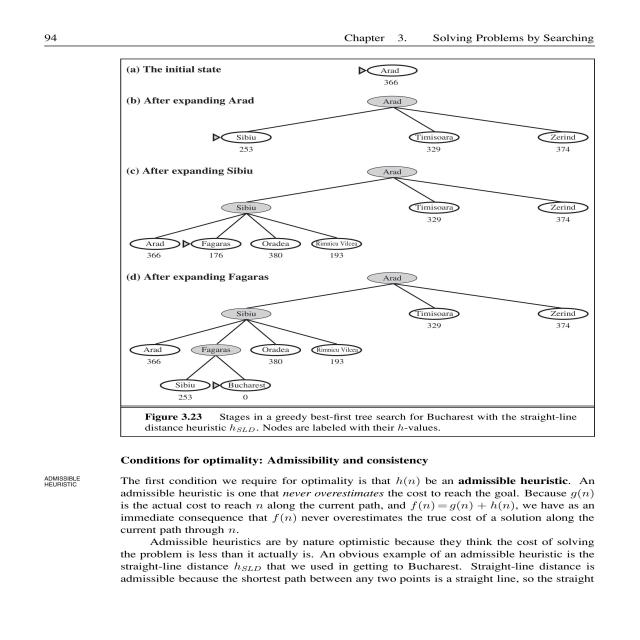diagram: (97, 52, 608, 445)
